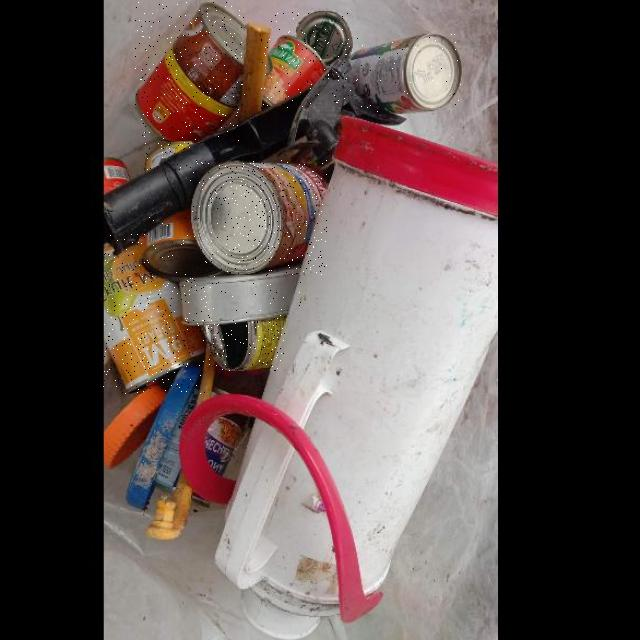metal: (103, 234, 206, 393), (135, 1, 245, 142), (191, 160, 327, 274), (348, 32, 462, 113), (261, 11, 351, 109), (178, 263, 302, 325), (140, 207, 223, 280), (201, 316, 285, 371), (144, 141, 192, 171)
